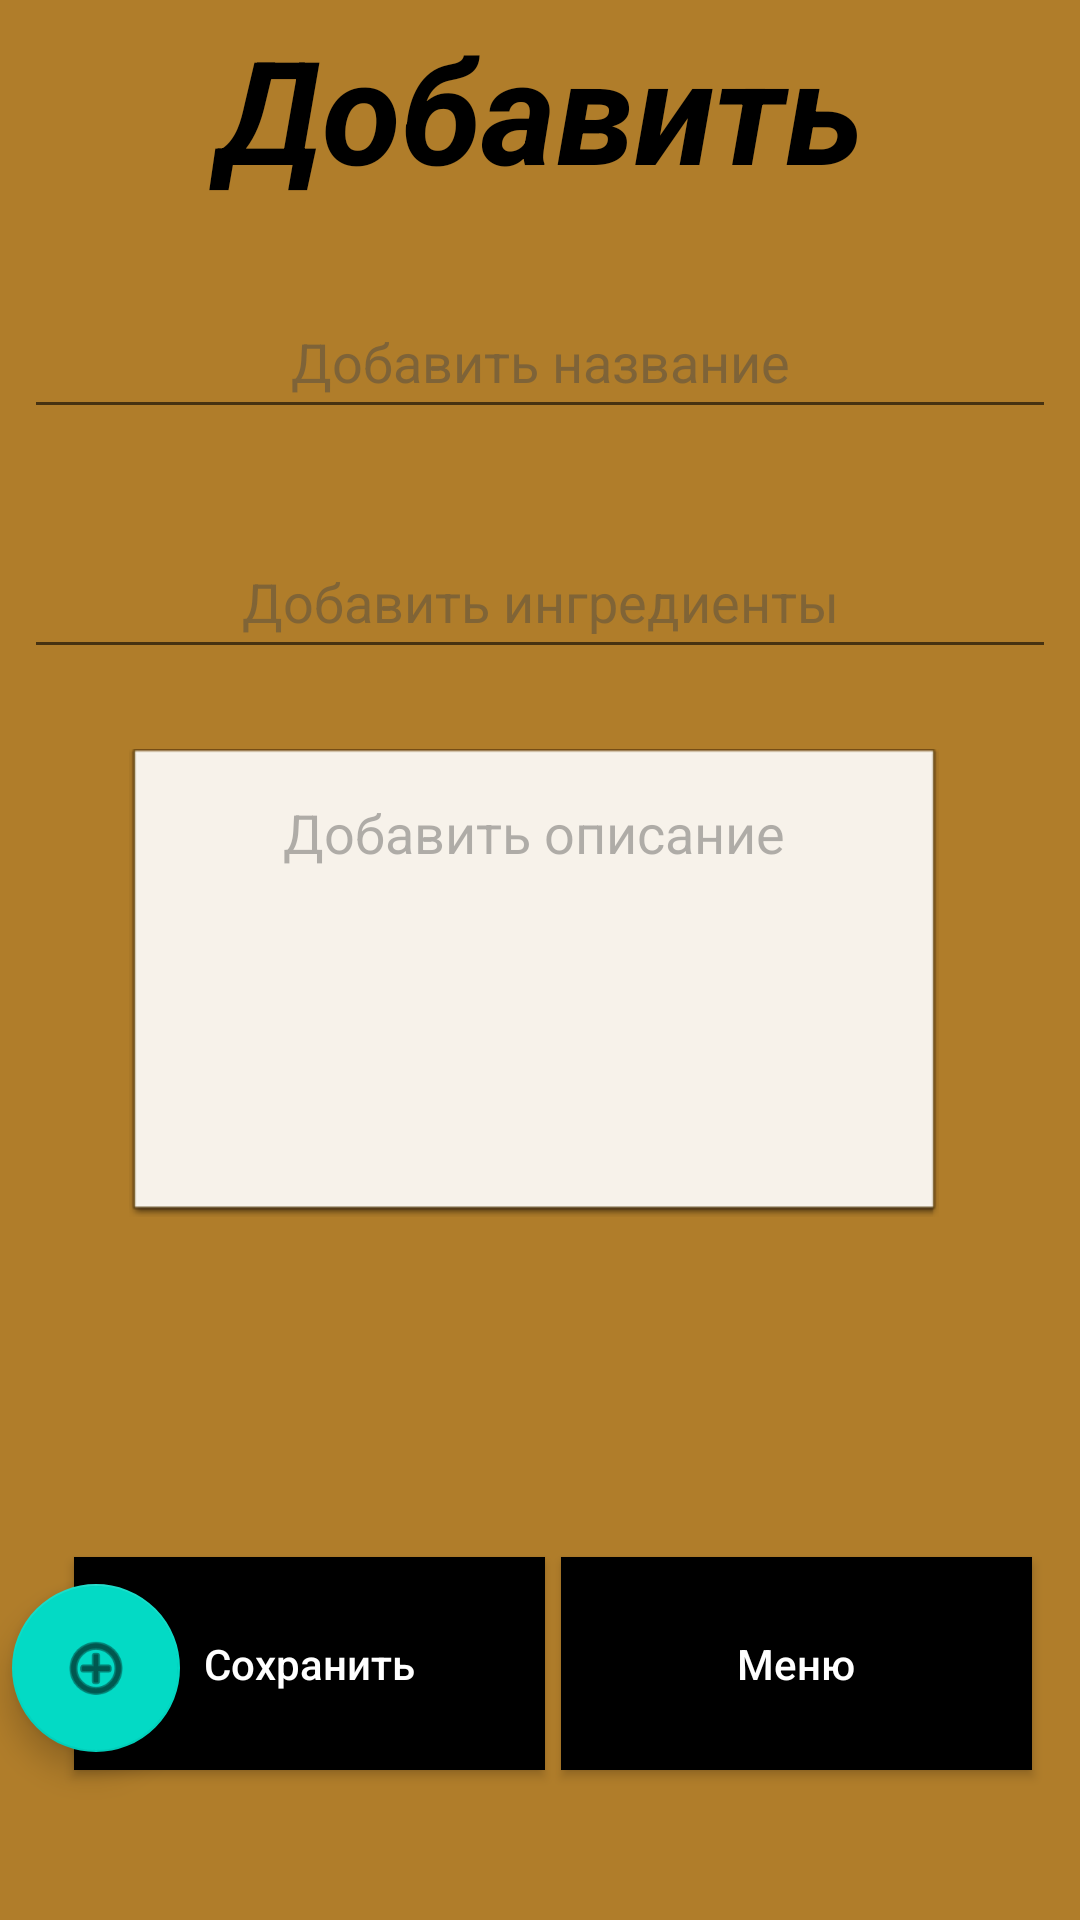

Screen size 1080px×1920px. Icon name, then its center in pixels as (x,y):
add: (96,1668)
